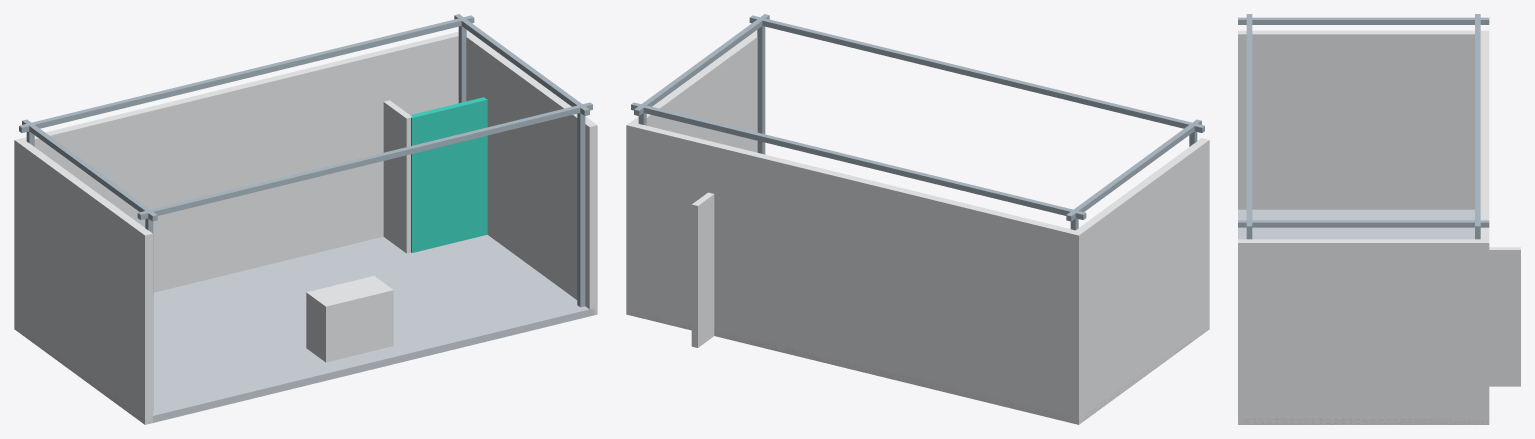
The picture shows the model from 3 angles, left to right: view 1: azimuth 30°, elevation 25°; view 2: azimuth 150°, elevation 25°; view 3: azimuth 270°, elevation 25°; orthographic projection. The views are drawn at different scales.
Parts seen in each view (by area): view 1: Exhibition Booth Concept; view 2: Exhibition Booth Concept; view 3: Exhibition Booth Concept.
Part boxes in pixels (x1=…): Exhibition Booth Concept: x1=14, y1=14, x2=597, y2=424; Exhibition Booth Concept: x1=626, y1=14, x2=1209, y2=424; Exhibition Booth Concept: x1=1238, y1=14, x2=1520, y2=424.
Bounding box in the file's own units: 8 × 3.49 × 4.51.
